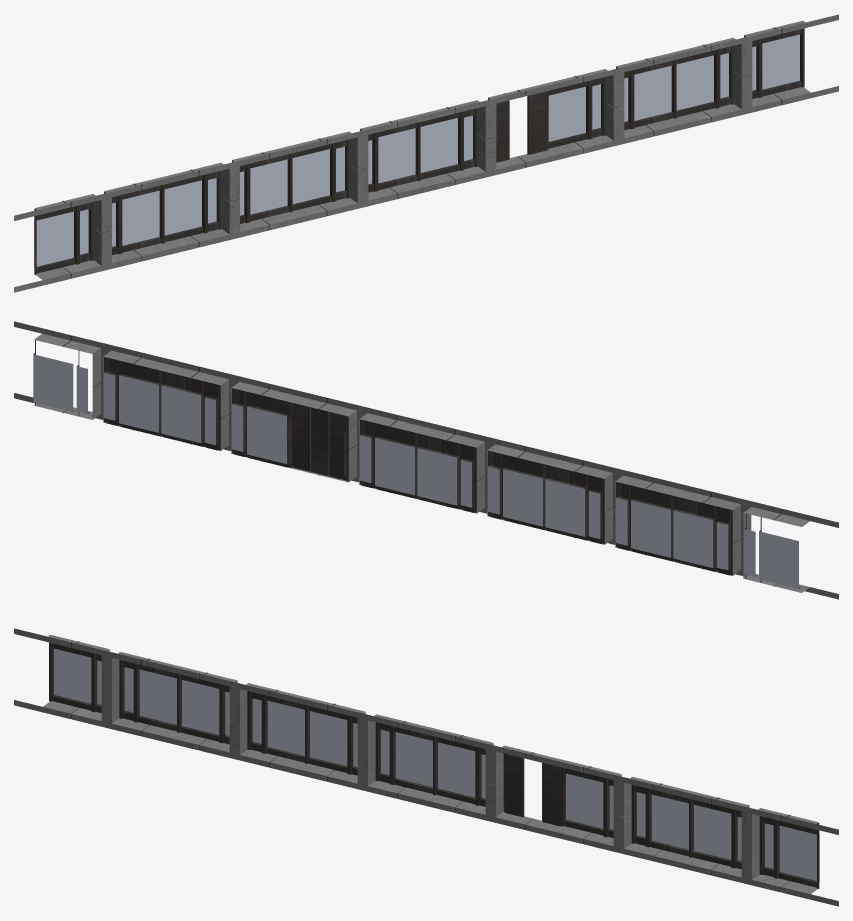
File: building.glb
The picture shows the model from 3 angles, top to bottom: view 1: azimuth 30°, elevation 25°; view 2: azimuth 150°, elevation 25°; view 3: azimuth 330°, elevation 25°; orthographic projection.
Parts seen in each view (by area): view 1: Plane; view 2: Plane; view 3: Plane.
Part boxes in pixels (box(x1,y1,x2,y2)): Plane: box(14, 14, 838, 292); Plane: box(14, 321, 838, 599); Plane: box(14, 628, 838, 906).
Bounding box in the file's own units: 17.33 × 1.55 × 0.3668.
3 materials, 2 textured.
